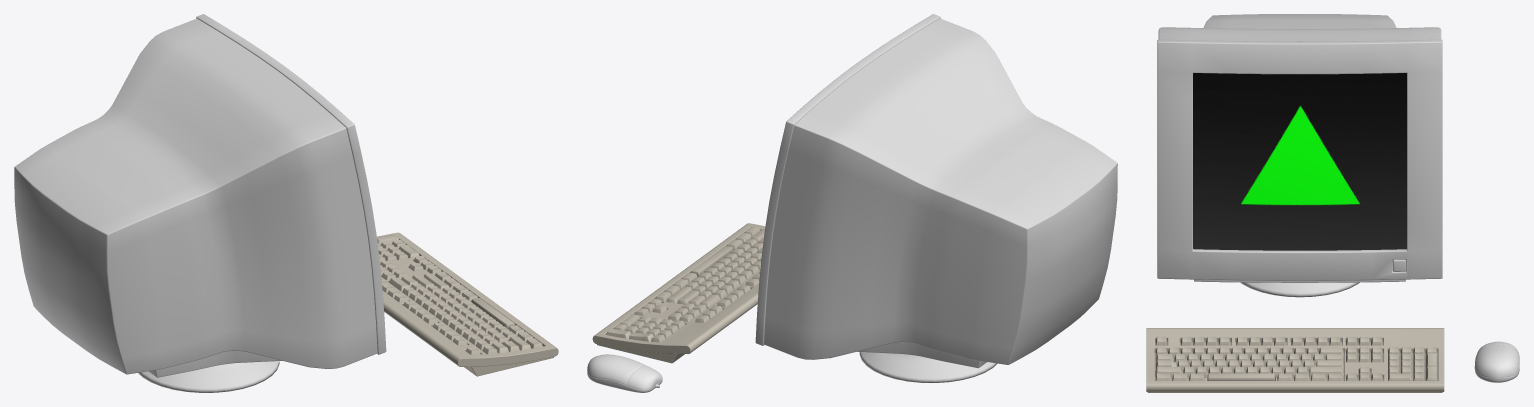
Rendered from computer_v2.glb.
3 views of the same model, side by side, from view 1: azimuth 30°, elevation 25°; view 2: azimuth 150°, elevation 25°; view 3: azimuth 270°, elevation 25° (orthographic). The views are drawn at different scales.
Visible parts, largest first — view 1: Keyboard; view 2: Keyboard; view 3: Keyboard.
Boxes of the visible parts, <box> form: Keyboard: <box>14,14,558,392</box>; Keyboard: <box>587,14,1117,392</box>; Keyboard: <box>1146,14,1519,392</box>.
Size of the model in its own units: 3.77 by 2.36 by 3.04.
Materials: 5 (1 with a texture image).
